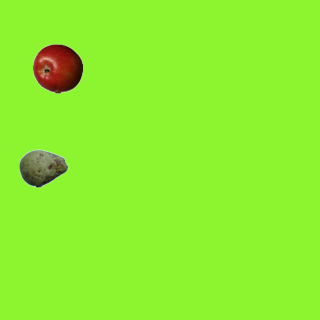Apple Braeburn: (32, 43, 82, 93)
Pear Stone: (18, 143, 68, 193)
